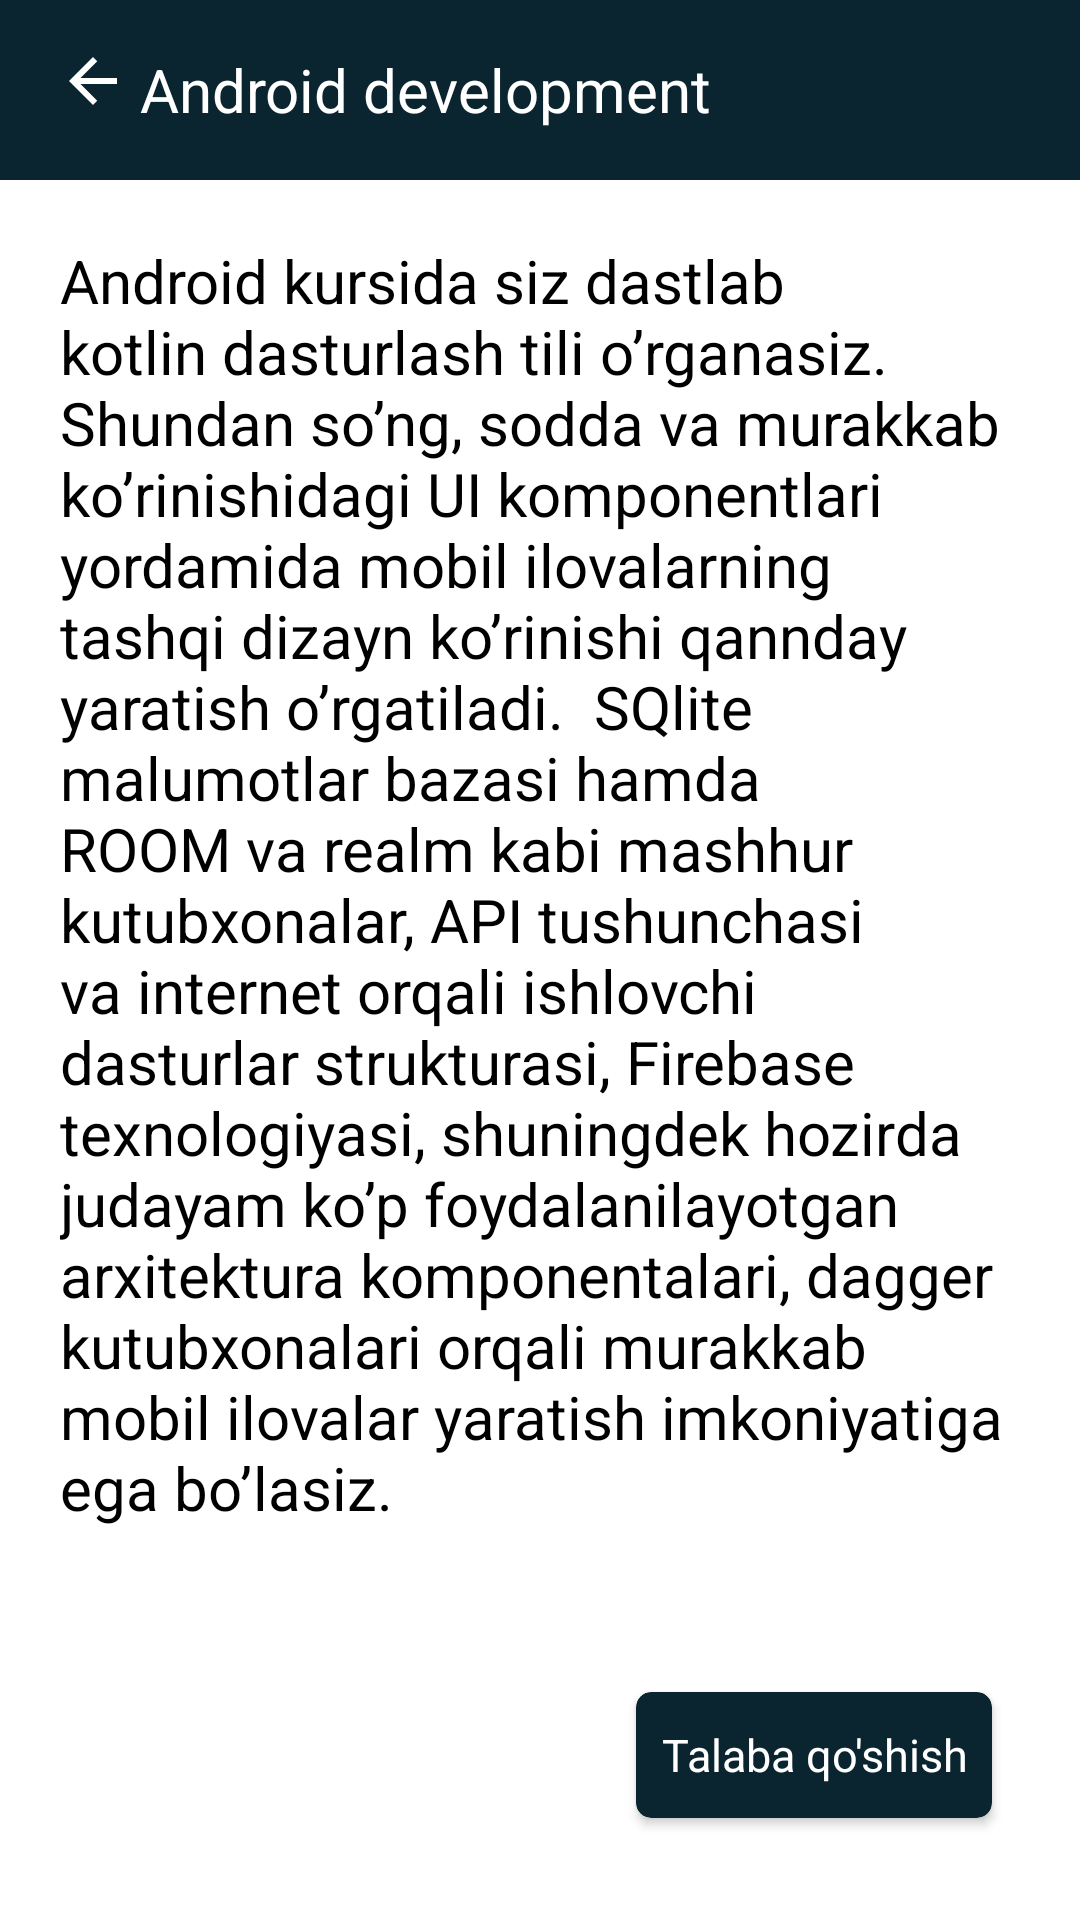

Where to tap for icons on this 1080 x 1920 app screen, as (x=x, y=y):
arrow back: (x=93, y=81)
